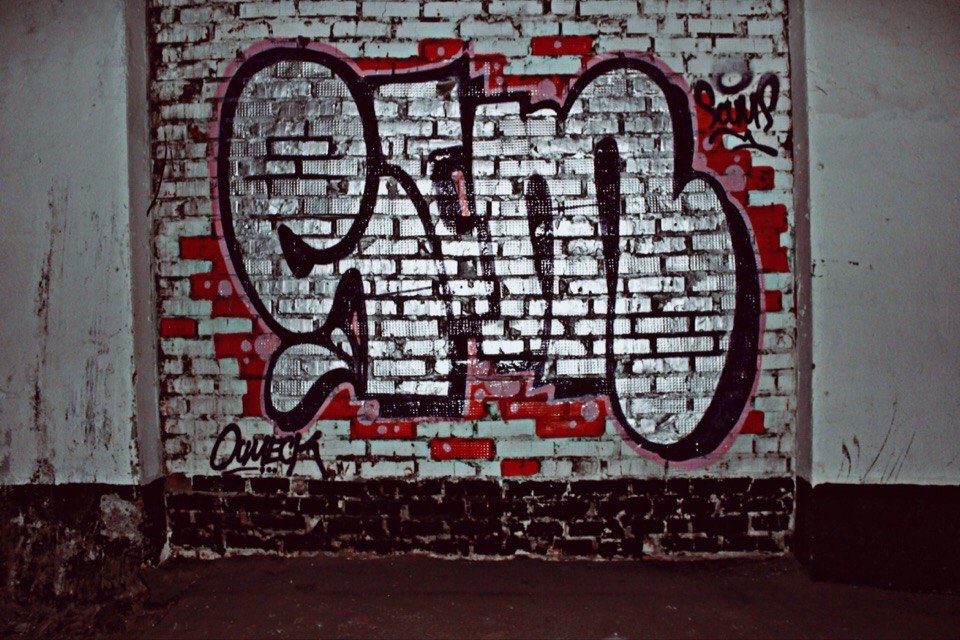graffity: (162, 12, 802, 485)
